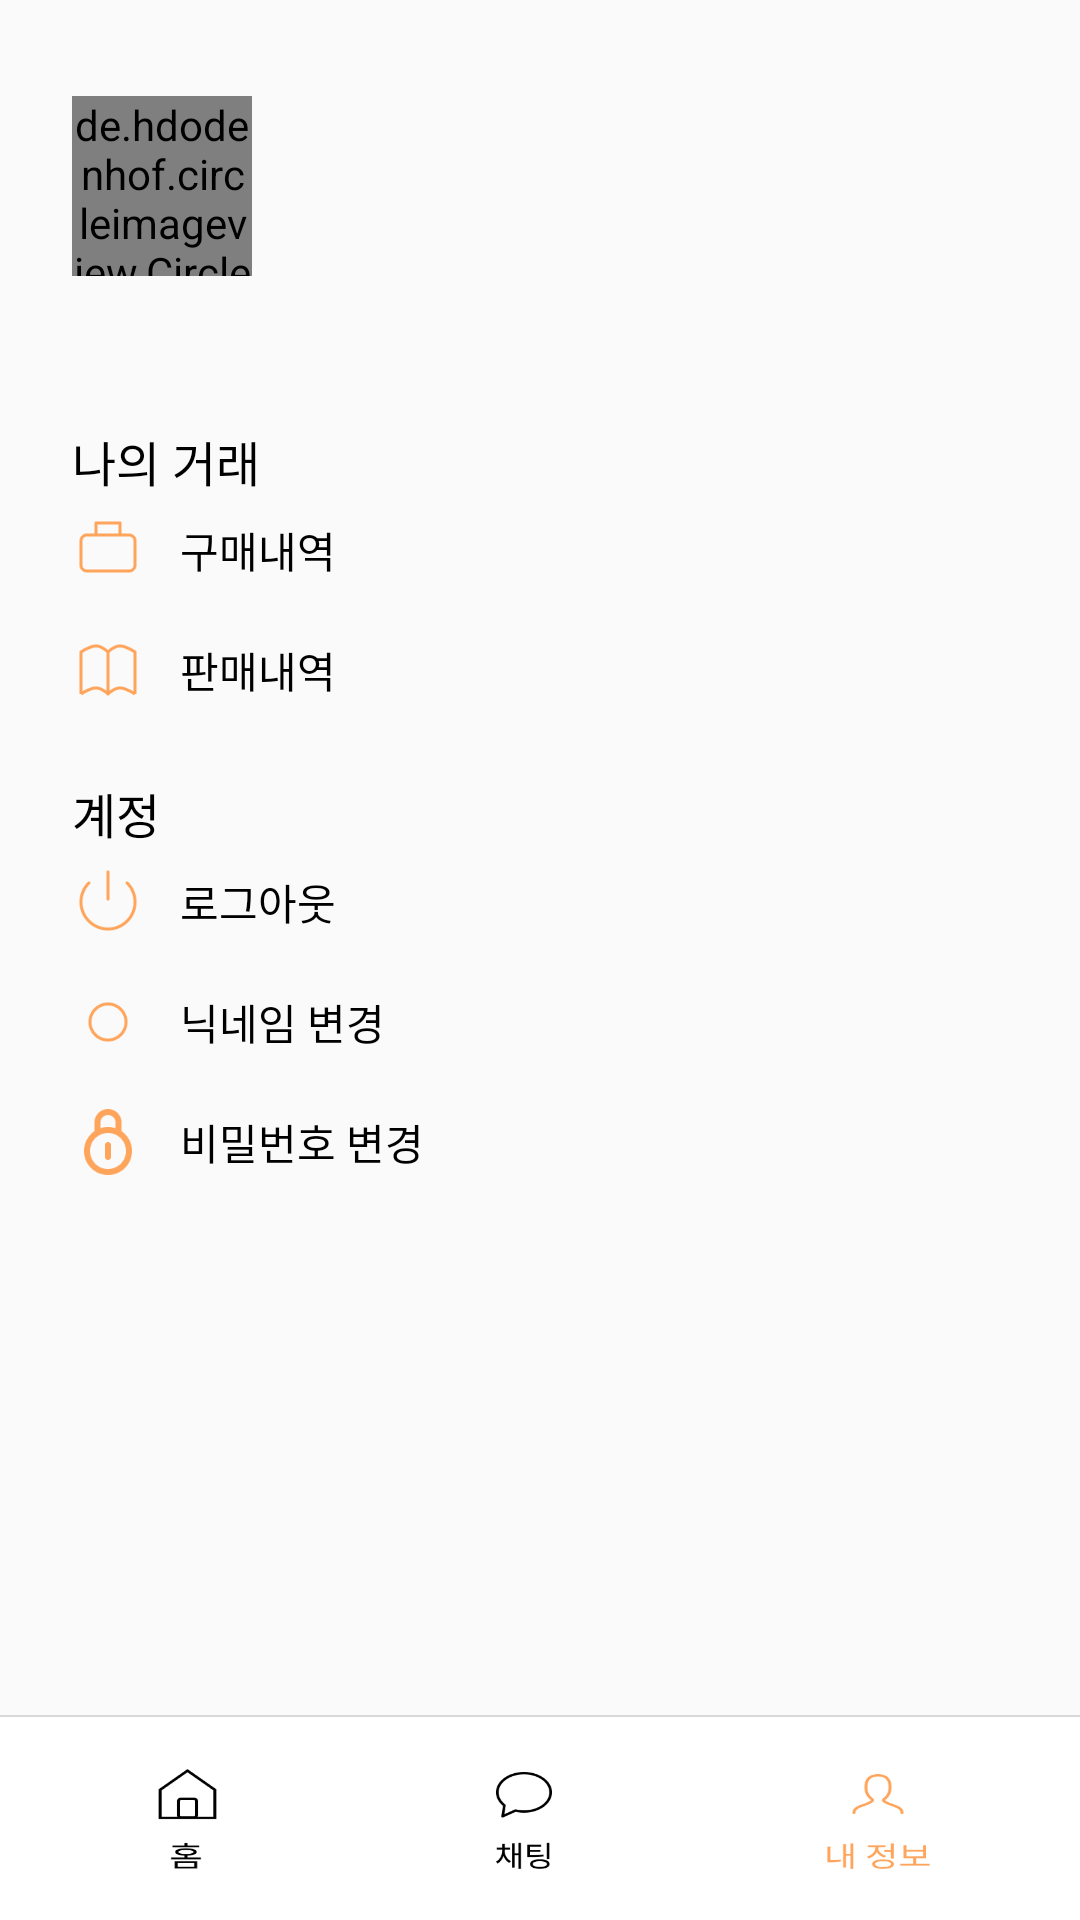

Icon click points for this 1080x1920 phone screenshot, format (x,y):
power: (108,900)
radio: (108,1022)
suitcase: (108,547)
